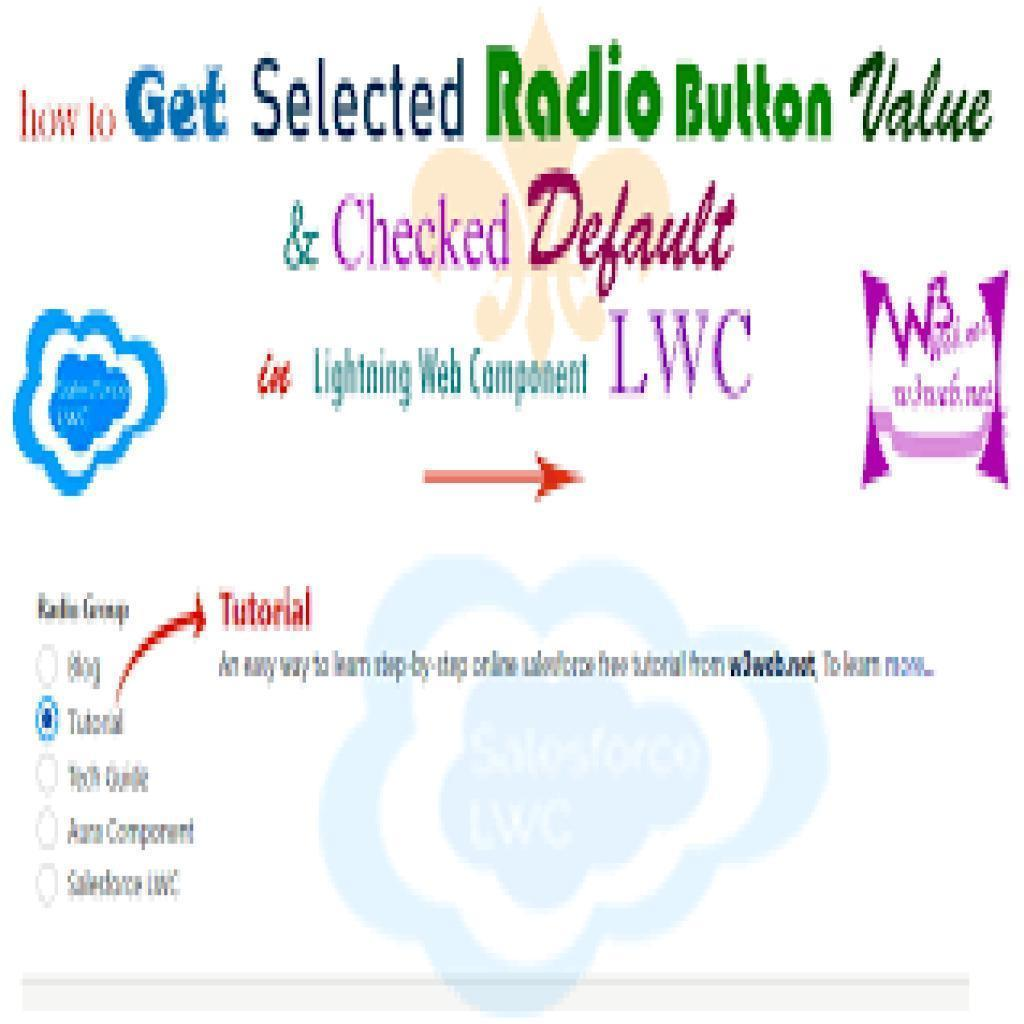radio: (26, 850, 62, 912), (29, 739, 63, 800), (30, 686, 64, 746), (30, 799, 61, 853), (33, 638, 63, 692)
